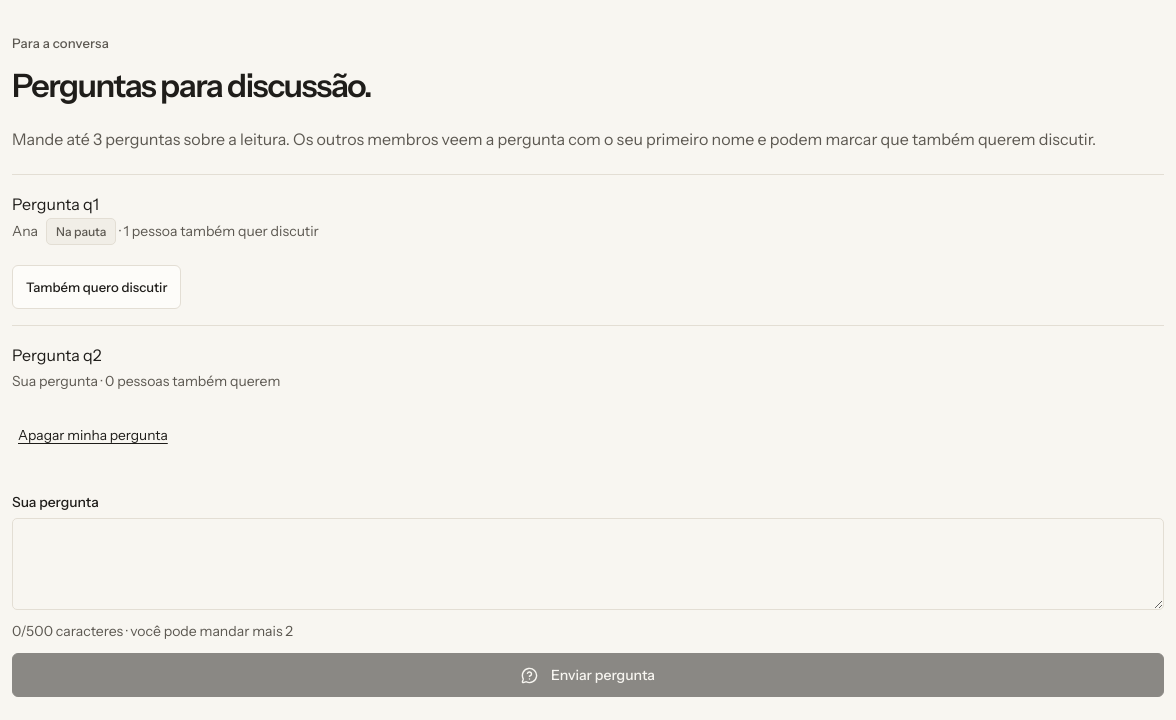
it: members send questions and mark others as also wanting to discuss
The width and height of the screenshot is (1176, 720).
Expected: the text "Pergunta q1" is shown, x1=12 y1=194 x2=99 y2=214
Expected: the text "Na pauta" is shown, x1=46 y1=218 x2=116 y2=246
Click the button "Também quero discutir" at (97, 288), box x1=12 y1=266 x2=181 y2=310
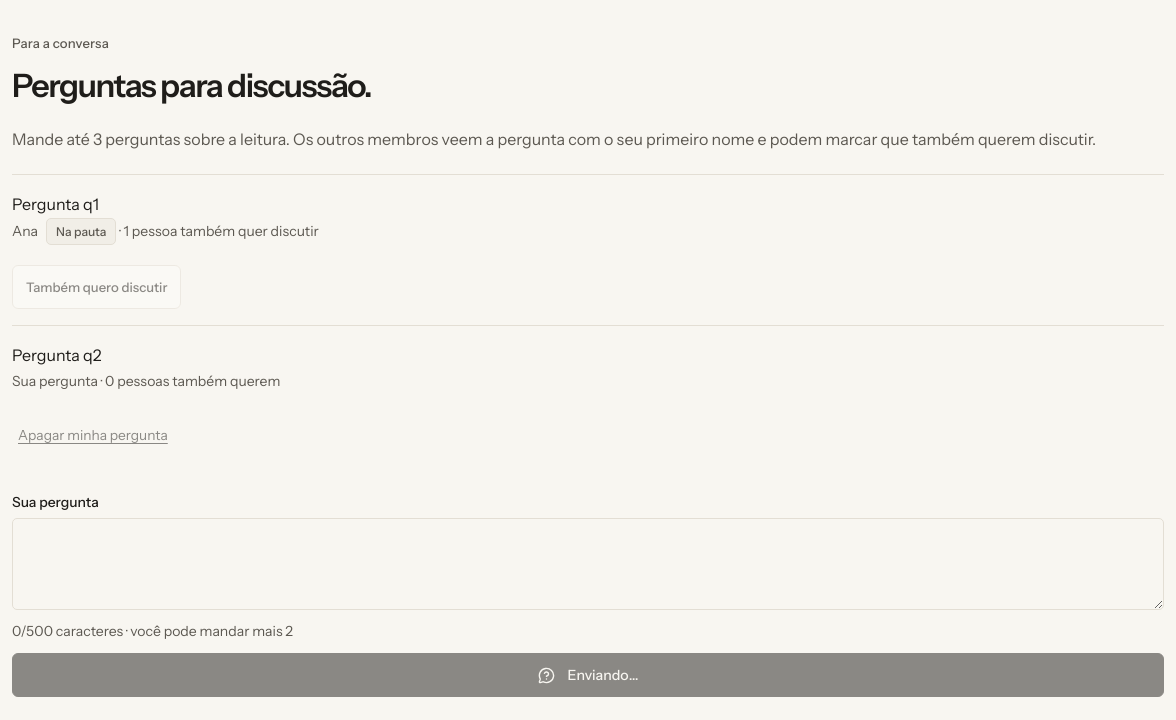
Type "Como fica a complexidade?" into the text box labelled "Sua pergunta" at (588, 564), box x1=12 y1=518 x2=1164 y2=610
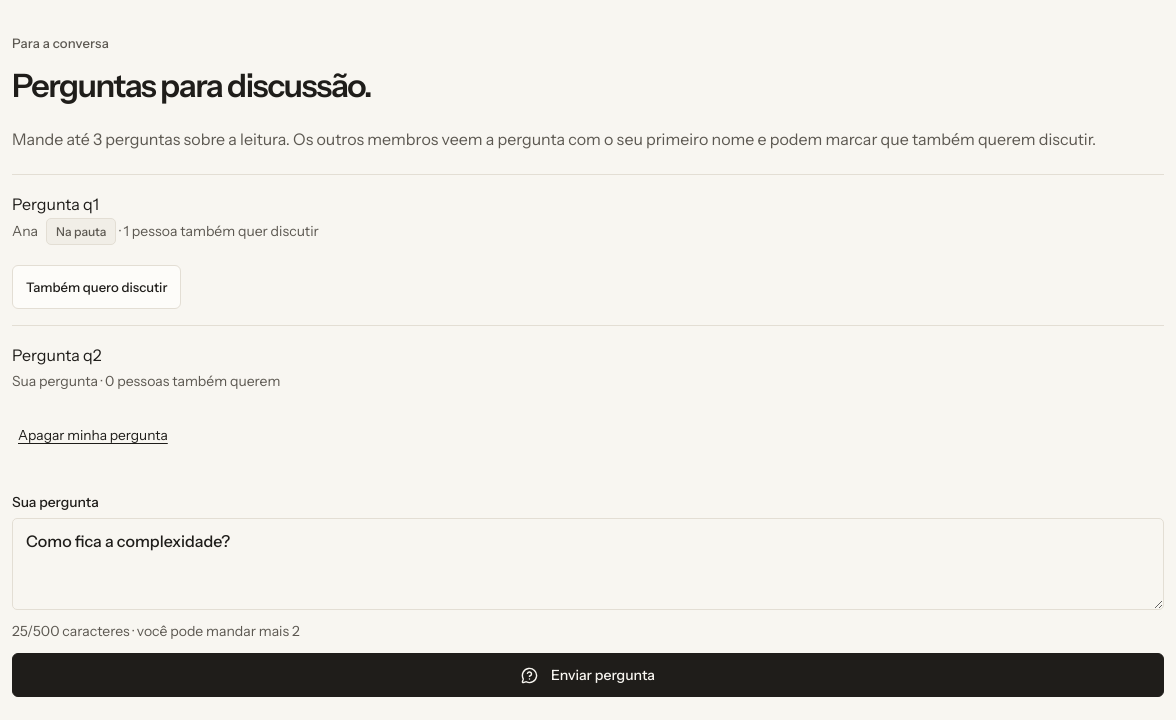
Click the button "Enviar pergunta" at (588, 675), box x1=12 y1=653 x2=1164 y2=697
(page scrolled)
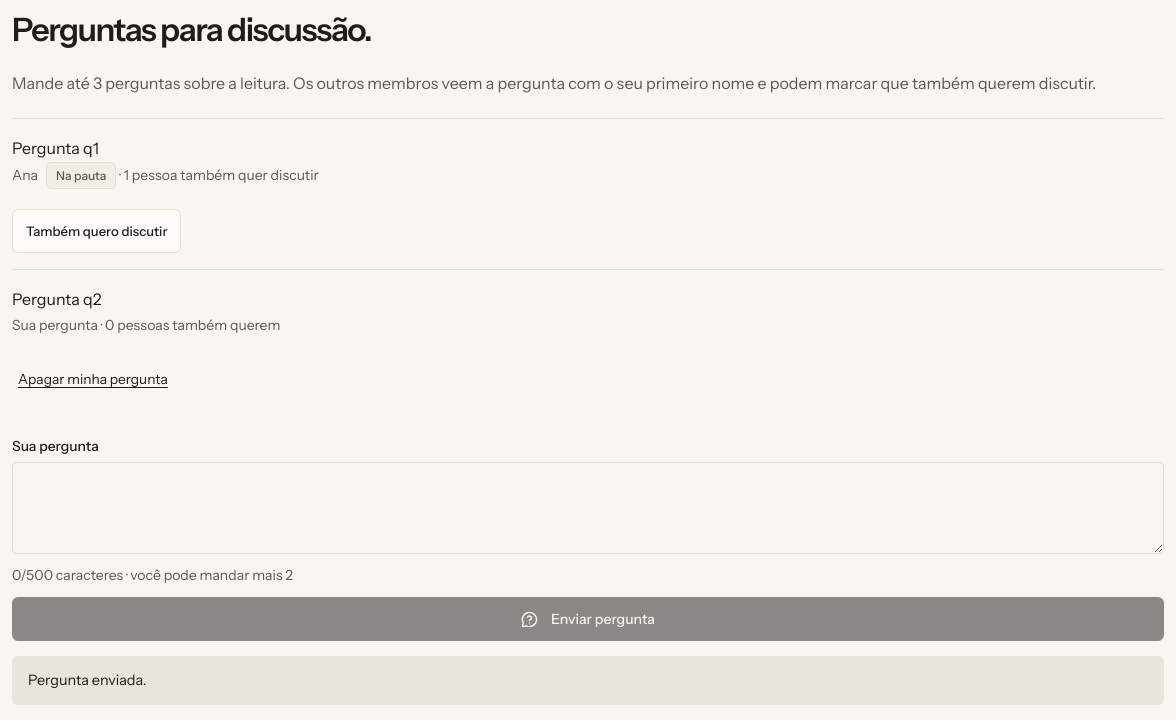
Now the text "Pergunta enviada." is shown, box x1=12 y1=656 x2=1164 y2=705
